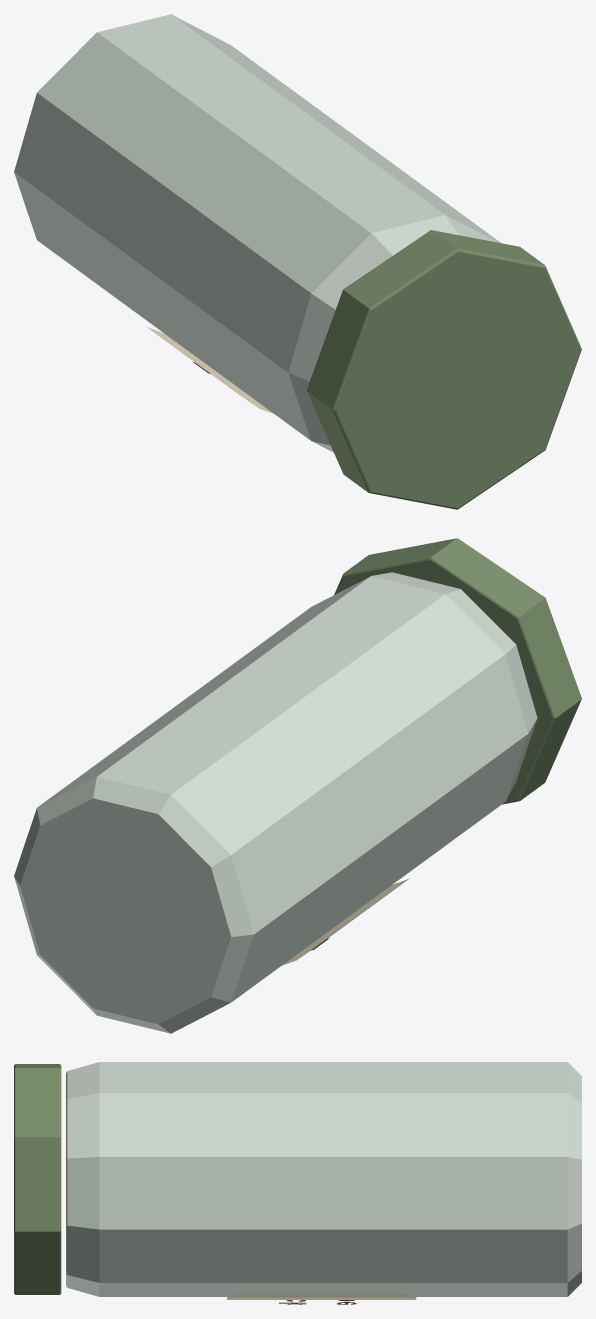
The model's file is black_pepper.glb.
3 views of the same model, one above another, from view 1: azimuth 30°, elevation 25°; view 2: azimuth 150°, elevation 25°; view 3: azimuth 270°, elevation 25° (orthographic). The views are drawn at different scales.
Visible parts, largest first — view 1: black_pepper; view 2: black_pepper; view 3: black_pepper.
Part boxes in pixels (x1,y1,x2,y2): black_pepper: (14,14,581,509); black_pepper: (14,538,581,1033); black_pepper: (14,1062,581,1304).
Bounding box in the file's own units: 0.052 × 0.0525 × 0.12.
